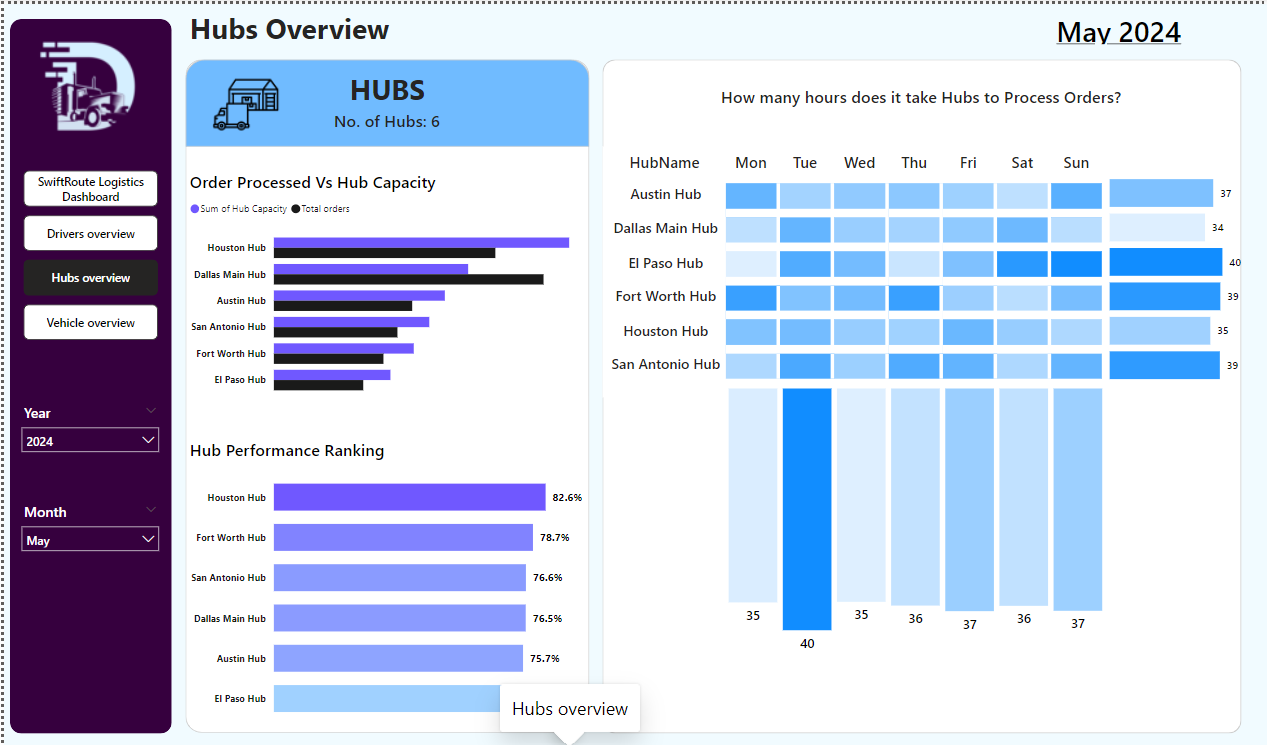

What the dashboard file says about the page in this screenshot:
{"tool":"powerbi","page":{"name":"Hubs overview","canvas":[1450,850],"ordinal":2},"visuals":[{"type":"shape","box":[6.2,16.7,185.4,818.8],"z":0},{"type":"textbox","box":[207.8,0,517.6,64.7],"z":1000},{"type":"slicer","fields":{"Values":["Date Table.Year"]},"box":[7.5,448.9,183.9,73.2],"z":2000},{"type":"slicer","fields":{"Values":["Date Table.Month"]},"box":[7.5,561.4,183.9,73.2],"z":3000},{"type":"image","box":[1.9,32.1,190.6,132.1],"z":4000},{"type":"cardVisual","fields":{"Data":["Orders.Year Month Title"]},"box":[1137.7,11.3,279.2,39.6],"z":5000},{"type":"shape","box":[684.9,64.2,732.1,771.7],"z":6000},{"type":"shape","box":[207.1,64.3,462.5,771.4],"z":7000},{"type":"shape","box":[207.1,64.3,462.5,100],"z":8000},{"type":"cardVisual","fields":{"Data":["Hubs.No. of Hubs"]},"box":[207.1,114.3,462.5,39.3],"z":9000},{"type":"barChart","title":"Hub Performance Ranking","fields":{"Category":["Hubs.HubName"],"Y":["Orders.On Time Delivery Rate"]},"box":[207.1,498.2,462.5,337.5],"z":10000},{"type":"textbox","box":[207.1,69.6,462.5,64.3],"z":11000},{"type":"clusteredBarChart","title":"Order Processed Vs Hub Capacity","fields":{"Category":["Hubs.HubName"],"Y":["Sum(Hubs.Hub Capacity)","Orders.Total orders"]},"box":[207.1,191.1,462.5,269.6],"z":12000},{"type":"pivotTable","fields":{"Rows":["Hubs.HubName"],"Columns":["Date Table.Day"],"Values":["Orders.Avg Delivery Time(hrs)"]},"box":[685.7,162.5,578.6,287.5],"z":13000},{"type":"columnChart","fields":{"Category":["Date Table.Day"],"Y":["Orders.Avg Delivery Time(hrs)"]},"box":[825,426.8,439.3,323.2],"z":14000},{"type":"barChart","fields":{"Category":["Hubs.HubName"],"Y":["Orders.Avg Delivery Time(hrs)"]},"box":[1260.7,187.5,189.3,248.2],"z":15000},{"type":"cardVisual","fields":{"Data":["Hubs.Hub Title"]},"box":[685.7,75,730.4,58.9],"z":16000},{"type":"pageNavigator","box":[22.6,190.6,154.7,194.3],"z":17000},{"type":"image","box":[232.1,75.5,90.6,79.2],"z":17001}]}

Visuals, with their boxes on the page's 1450x850 design canvas (x1, y1, x2, y2). These are canvas units, not pixel positions in the 1267x745 screenshot, which may show the page scaled, cropped or inside an application window:
shape: box(6, 17, 192, 836)
textbox: box(208, 0, 725, 65)
slicer - Date Table.Year: box(8, 449, 191, 522)
slicer - Date Table.Month: box(8, 561, 191, 635)
image: box(2, 32, 192, 164)
cardVisual - Orders.Year Month Title: box(1138, 11, 1417, 51)
shape: box(685, 64, 1417, 836)
shape: box(207, 64, 670, 836)
shape: box(207, 64, 670, 164)
cardVisual - Hubs.No. of Hubs: box(207, 114, 670, 154)
"Hub Performance Ranking" barChart: box(207, 498, 670, 836)
textbox: box(207, 70, 670, 134)
"Order Processed Vs Hub Capacity" clusteredBarChart: box(207, 191, 670, 461)
pivotTable - Hubs.HubName x Date Table.Day: box(686, 162, 1264, 450)
columnChart - Date Table.Day x Orders.Avg Delivery Time(hrs): box(825, 427, 1264, 750)
barChart - Hubs.HubName x Orders.Avg Delivery Time(hrs): box(1261, 188, 1450, 436)
cardVisual - Hubs.Hub Title: box(686, 75, 1416, 134)
pageNavigator: box(23, 191, 177, 385)
image: box(232, 76, 323, 155)
